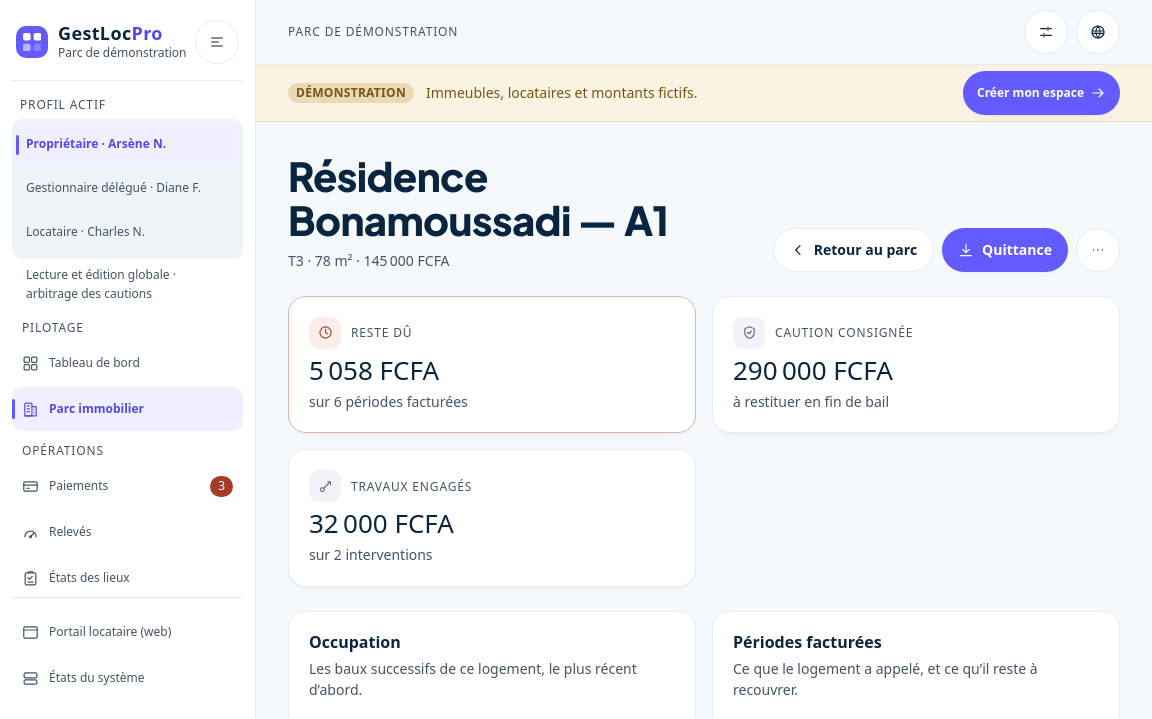
Test: les charges du bail › N’OUVRE QU’UNE SECTION À LA FOIS, et c’est la raison du dépliage
Expected: the heading "Résidence Bonamoussadi — A1" is shown, [288, 150, 668, 245]
Click the button named "Autres actions" at [1098, 250], box [1076, 228, 1120, 272]
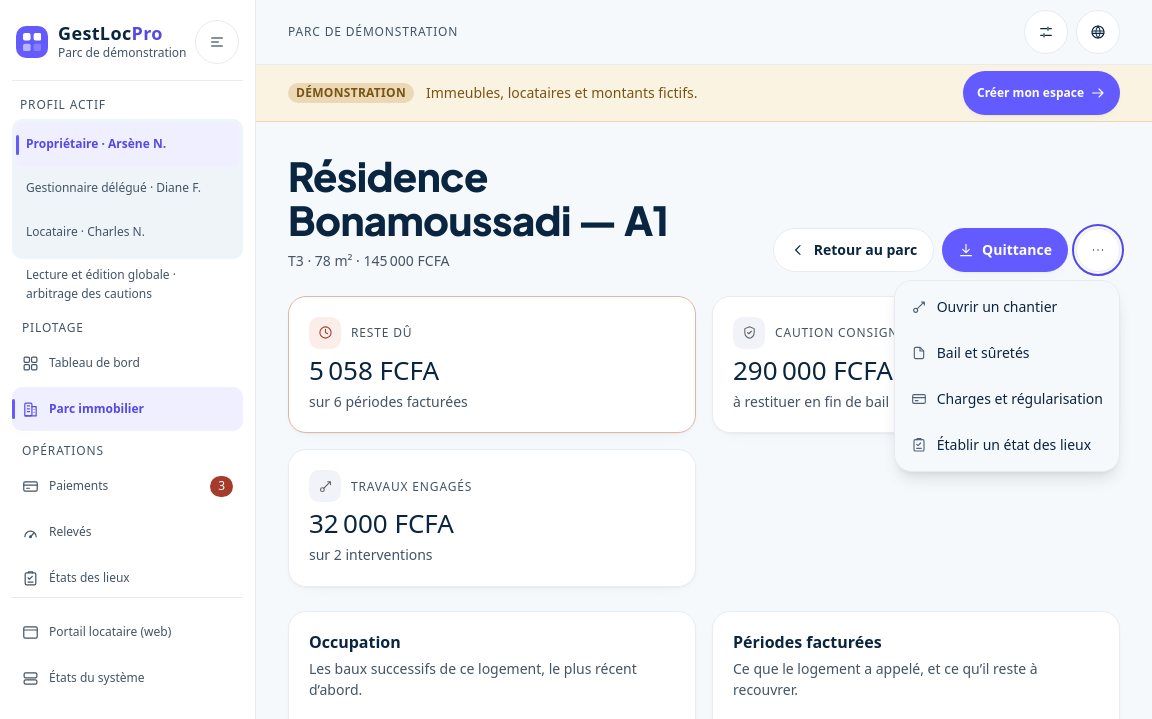
Click the menu item "Charges et régularisation" at [1007, 399], box [899, 377, 1115, 421]
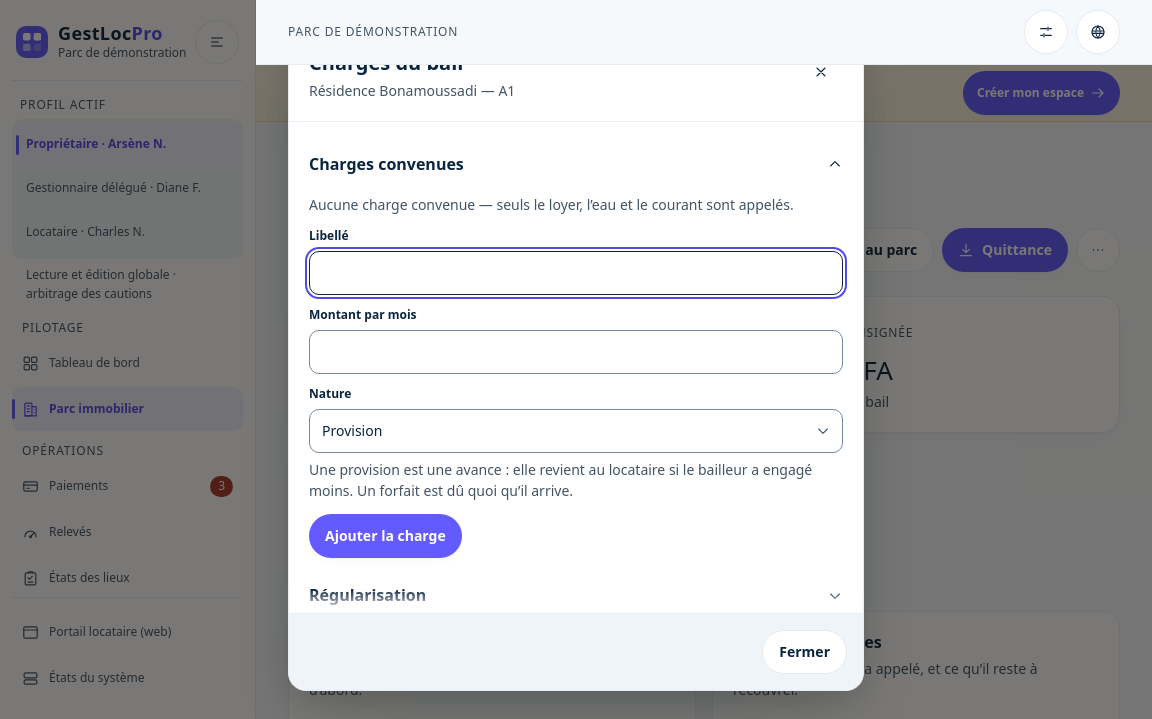
Click the button "Régularisation" at [368, 595], box [309, 574, 843, 618]
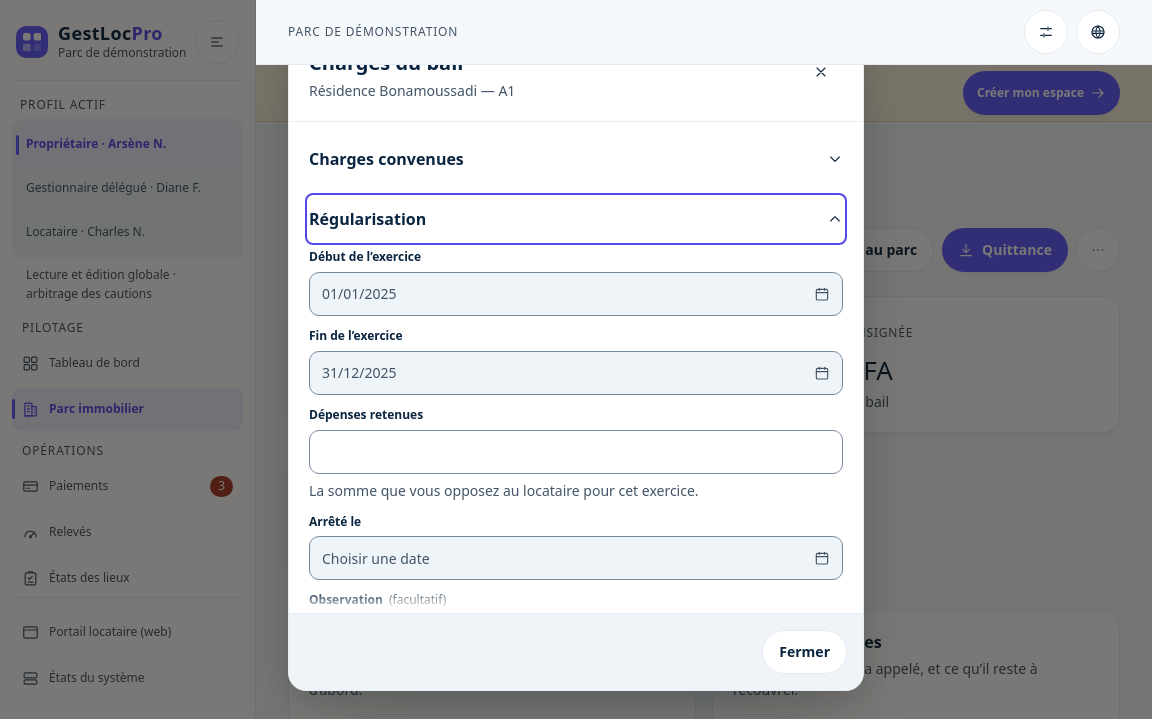
Result: the text "Aucune charge convenue" is gone
Result: the field labelled "Dépenses retenues" is shown at [309, 430, 843, 474]
Result: the text "La somme que vous opposez au locataire pour cet exercice." is shown at [309, 481, 699, 500]
